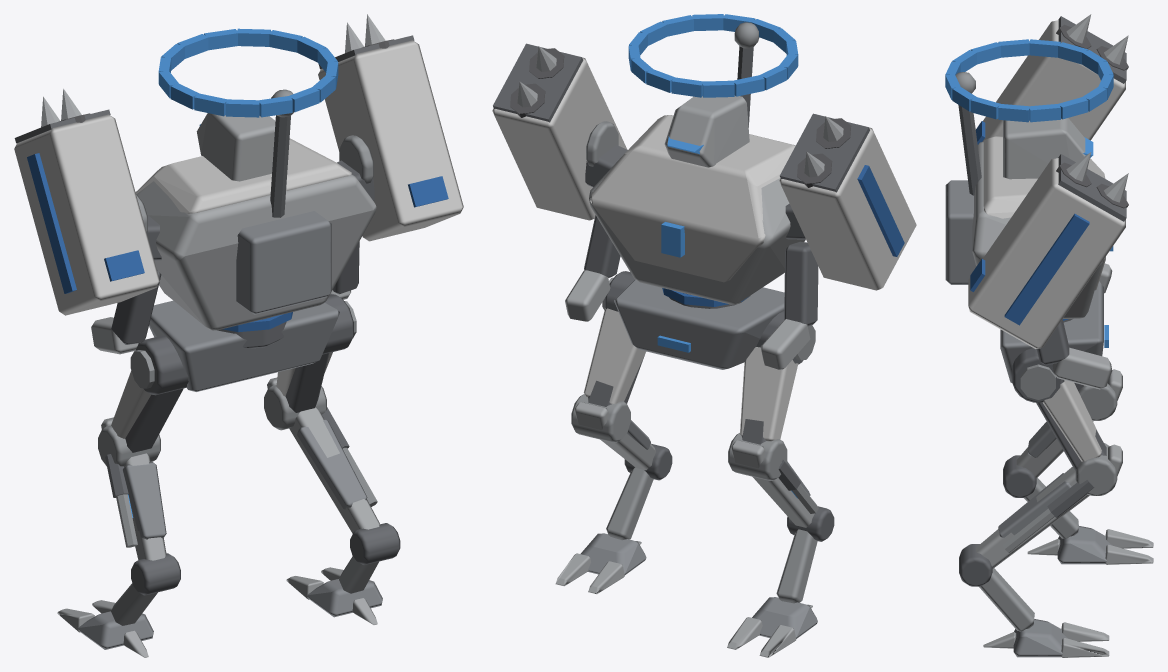
The model's file is lattice_aa_bot.glb.
3 views of the same model, side by side, from view 1: azimuth 30°, elevation 25°; view 2: azimuth 150°, elevation 25°; view 3: azimuth 270°, elevation 25° (orthographic). The views are drawn at different scales.
Visible parts, largest first — view 1: Turret, Body; view 2: Turret, Body; view 3: Turret, Body.
Part boxes in pixels (x1,y1,x2,y2): Turret: (14, 14, 463, 354); Body: (57, 294, 400, 657); Turret: (492, 14, 916, 369); Body: (555, 271, 834, 657); Turret: (945, 14, 1128, 389); Body: (959, 281, 1153, 657).
Size of the model in its own units: 0.922 by 1.32 by 0.4721.
